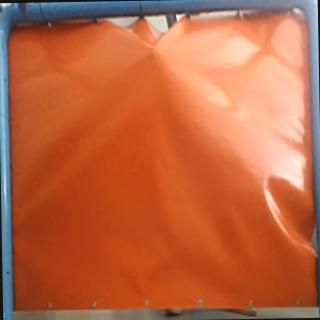Hit-hRxx: (146, 44, 164, 58)
